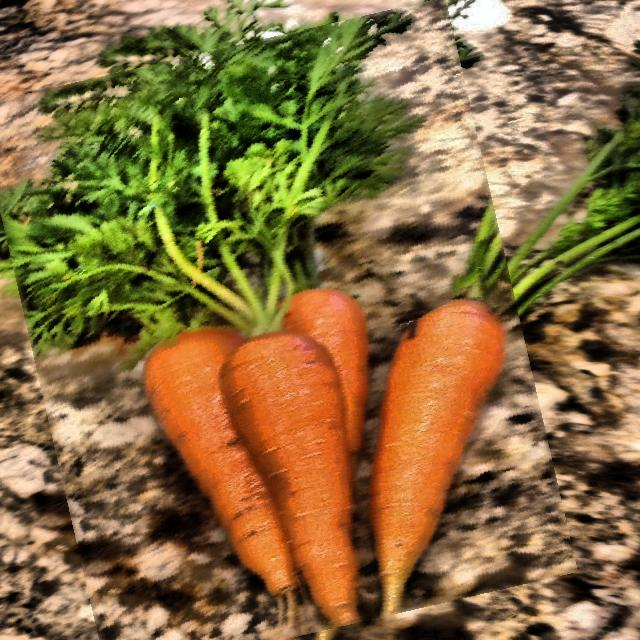carrot: (5, 19, 548, 640)
